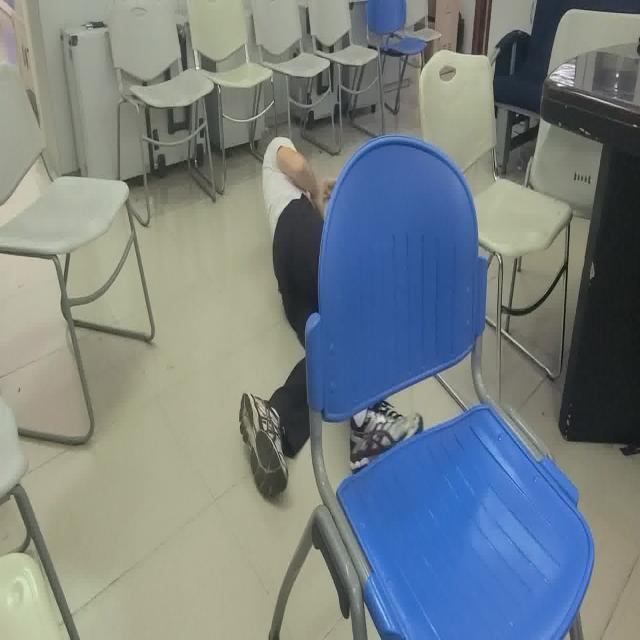Fall-Detected: (238, 134, 424, 506)
